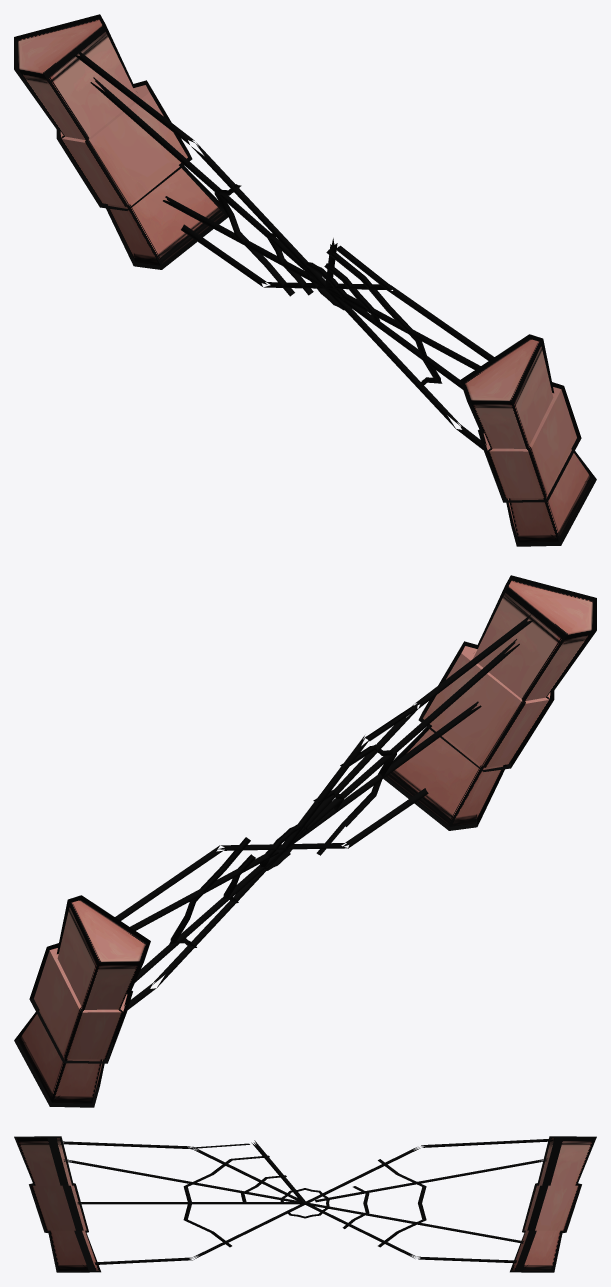
The model's file is bouncy_wall_state1.FBX.
3 renders of one model, top to bottom at view 1: azimuth 30°, elevation 25°; view 2: azimuth 150°, elevation 25°; view 3: azimuth 270°, elevation 25°, orthographic. The views are drawn at different scales.
Parts seen in each view (by area): view 1: Torus008, Box104; view 2: Torus008, Box104; view 3: Torus008, Box104.
Part boxes in pixels (x1,y1,x2,y2): Torus008: [17, 19, 592, 542]; Box104: [14, 14, 596, 546]; Torus008: [18, 580, 593, 1103]; Box104: [14, 575, 596, 1107]; Torus008: [16, 1138, 594, 1270]; Box104: [14, 1136, 596, 1272].
Size of the model in its own units: 0.4285 by 0.5545 by 2.17.
Materials: 2 (1 with a texture image).
